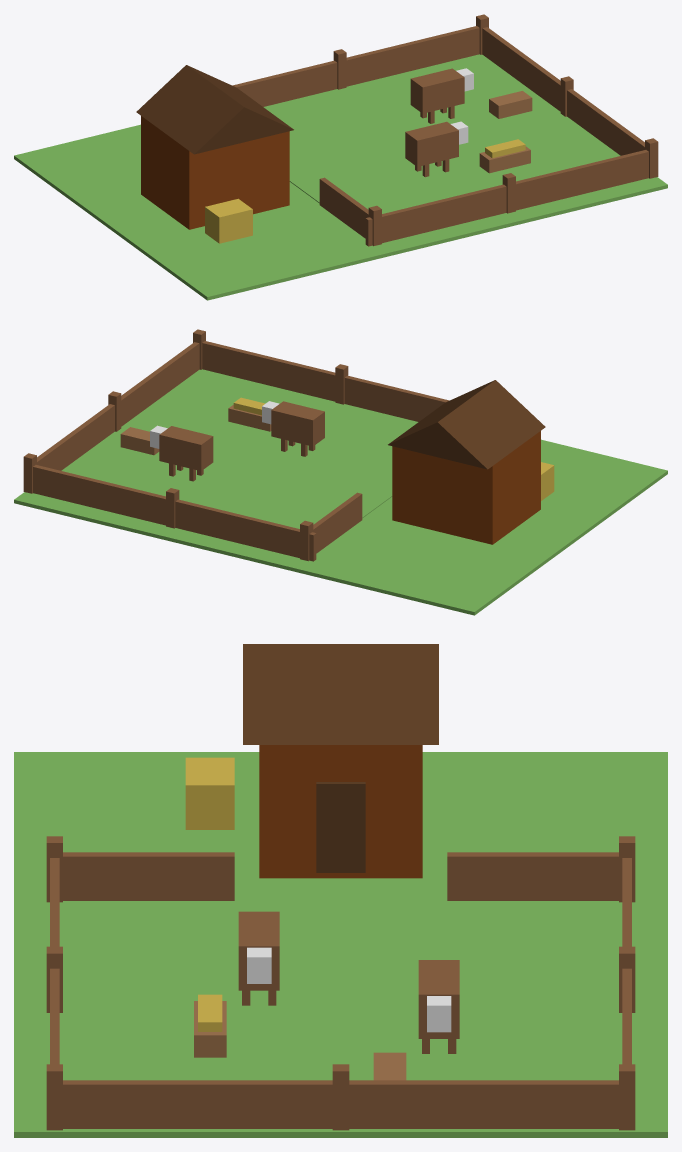
Rendered from cattle_ranch.glb.
The picture shows the model from 3 angles, top to bottom: view 1: azimuth 30°, elevation 25°; view 2: azimuth 150°, elevation 25°; view 3: azimuth 270°, elevation 25°; orthographic projection. The views are drawn at different scales.
Parts seen in each view (by area): view 1: Ground, Pasture, Barn, Fence_F, BarnRoof, Fence_B, Fence_R, Cow1_Body, Cow0_Body, Hay1, Fence_L1, Water (+6 smaller); view 2: Ground, Pasture, Barn, Fence_B, BarnRoof, Fence_F, Fence_R, Cow1_Body, Cow0_Body, Fence_L2, Water, Trough (+5 smaller); view 3: Pasture, Ground, Fence_R, BarnRoof, Barn, Fence_L1, Fence_L2, BarnDoor, Hay1, Cow0_Body, Cow1_Body, Fence_F (+13 smaller).
Boxes of the visible parts, x1,y1,x2,y2 form: Ground: (14,54,667,300); Pasture: (263,55,614,213); Barn: (141,116,289,229); Fence_F: (365,150,648,246); BarnRoof: (136,65,293,154); Fence_B: (232,26,479,106); Fence_R: (482,27,644,155); Cow1_Body: (410,68,464,113); Cow0_Body: (405,121,458,166); Hay1: (205,198,252,243); Fence_L1: (319,177,368,238); Water: (489,91,532,118); Ground: (14,369,667,615); Pasture: (67,370,418,528); Barn: (392,431,540,544); Fence_B: (33,465,316,561); BarnRoof: (388,380,545,469); Fence_F: (202,341,449,421); Fence_R: (37,342,199,470); Cow1_Body: (159,426,213,470); Cow0_Body: (271,401,324,446); Fence_L2: (313,492,362,553); Water: (120,427,159,455); Trough: (228,405,271,431); Pasture: (59,899,622,1080); Ground: (14,752,667,1137); Fence_R: (63,1080,618,1128); BarnRoof: (243,644,438,744); Barn: (259,745,422,878); Fence_L1: (63,852,234,900); Fence_L2: (447,852,618,900); BarnDoor: (316,782,365,872); Hay1: (185,757,234,829); Cow0_Body: (238,911,279,990); Cow1_Body: (418,960,459,1038); Fence_F: (50,858,59,1064).
Size of the model in its own units: 5.5 by 1.35 by 4.
